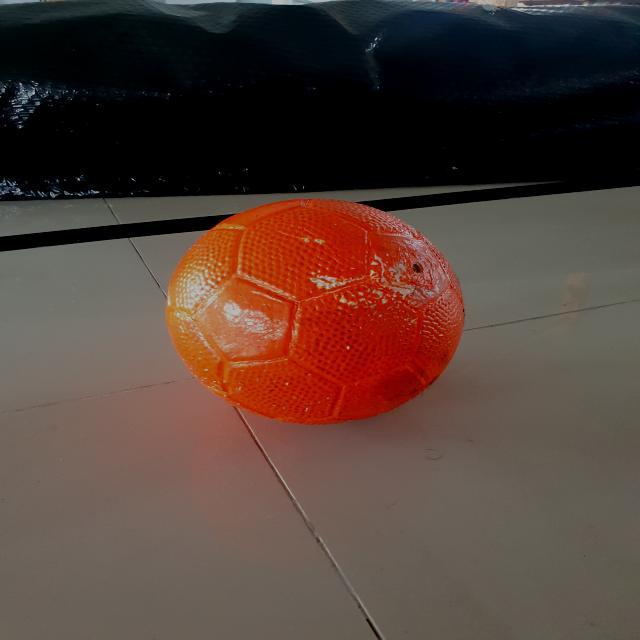bola: (158, 191, 474, 440)
